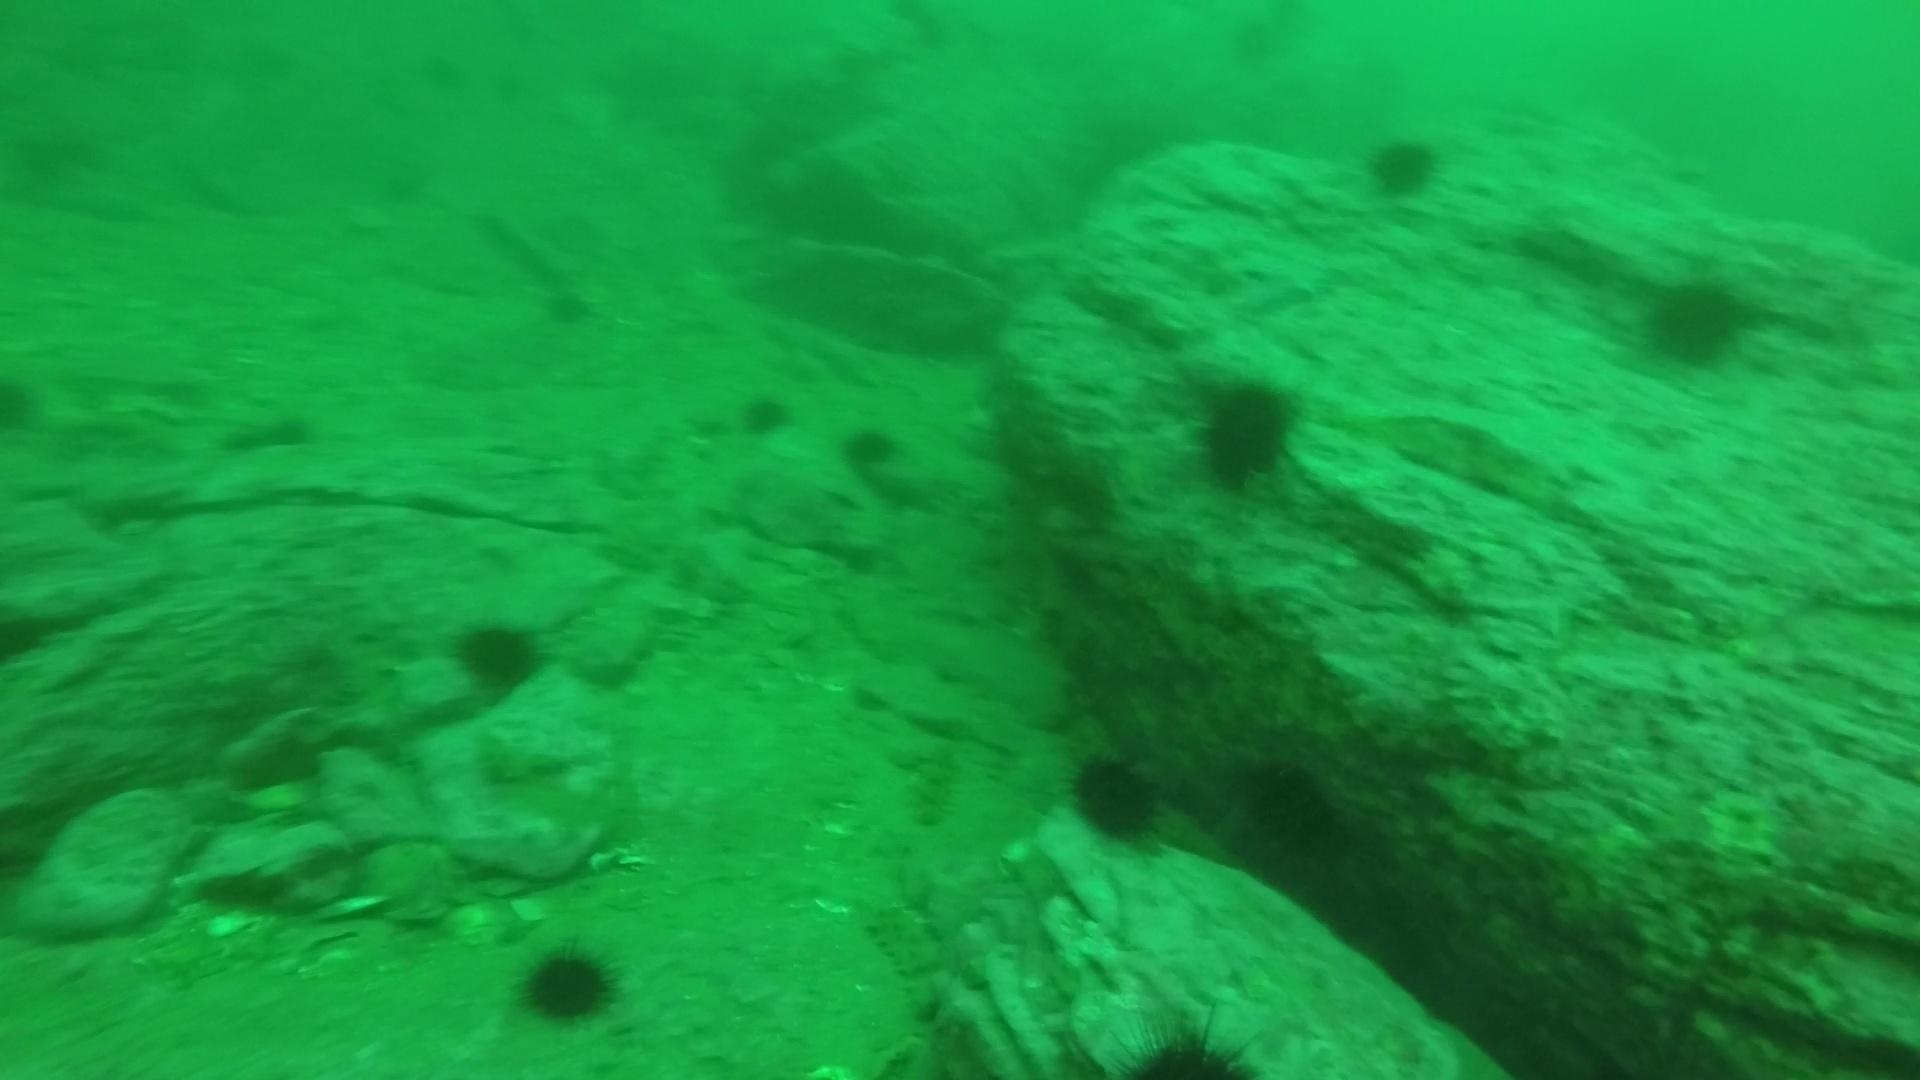echinus: (1185, 368, 1307, 495), (1633, 266, 1758, 373), (1229, 749, 1345, 862), (1063, 745, 1168, 851), (513, 938, 624, 1030), (1106, 1015, 1263, 1076), (447, 611, 549, 700), (1360, 128, 1447, 204), (833, 417, 906, 483), (1257, 1, 1329, 65), (732, 385, 796, 443), (547, 284, 612, 327), (1, 372, 40, 434), (224, 415, 273, 462), (266, 409, 316, 454)
